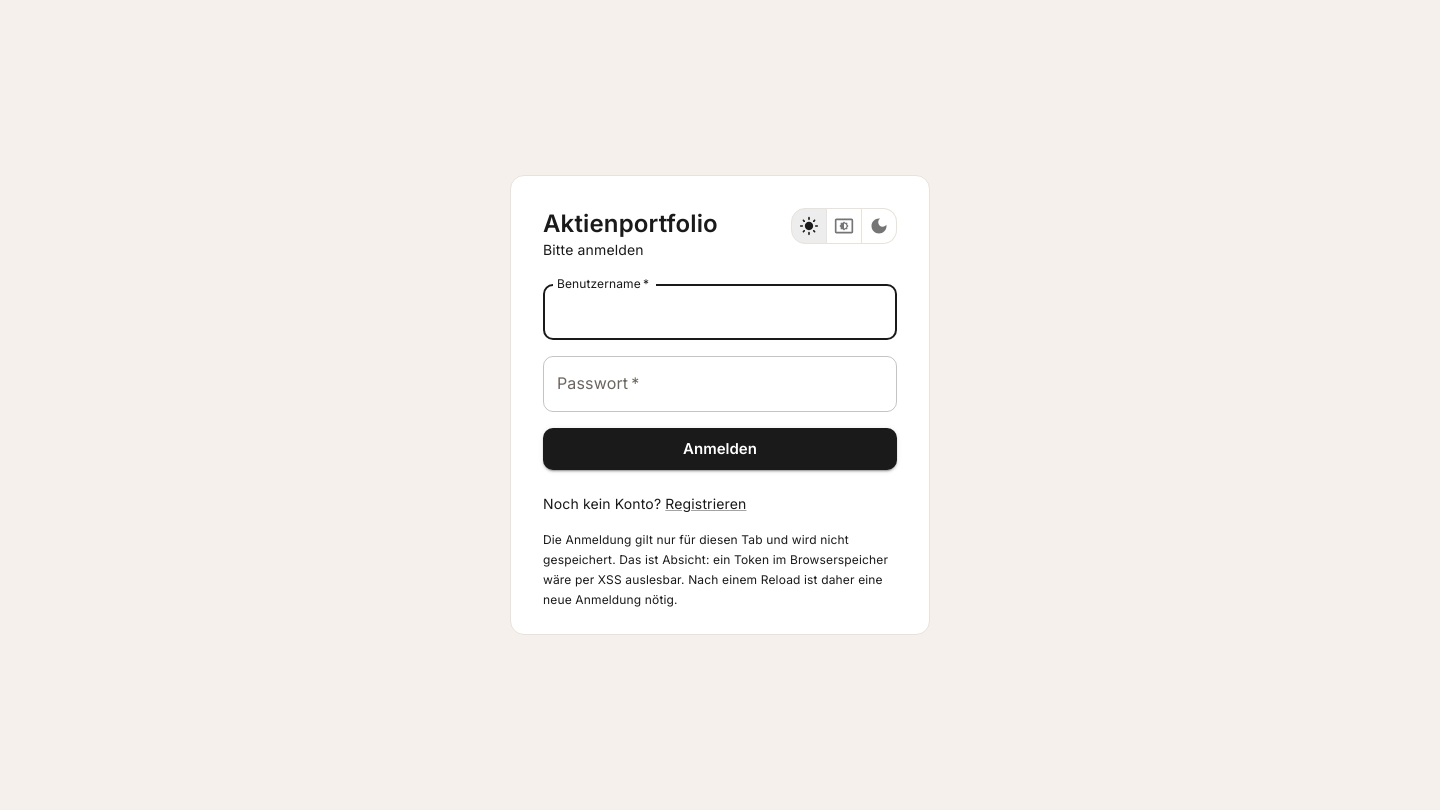
it: Mandanten-Übersicht für Manager › zeigt die Mandate als eigene Sektion mit dem Namen des Eigentümers
Type "demo" into the field labelled "Benutzername *".
click(720, 312); type("demo")  # box [543,284,897,340]
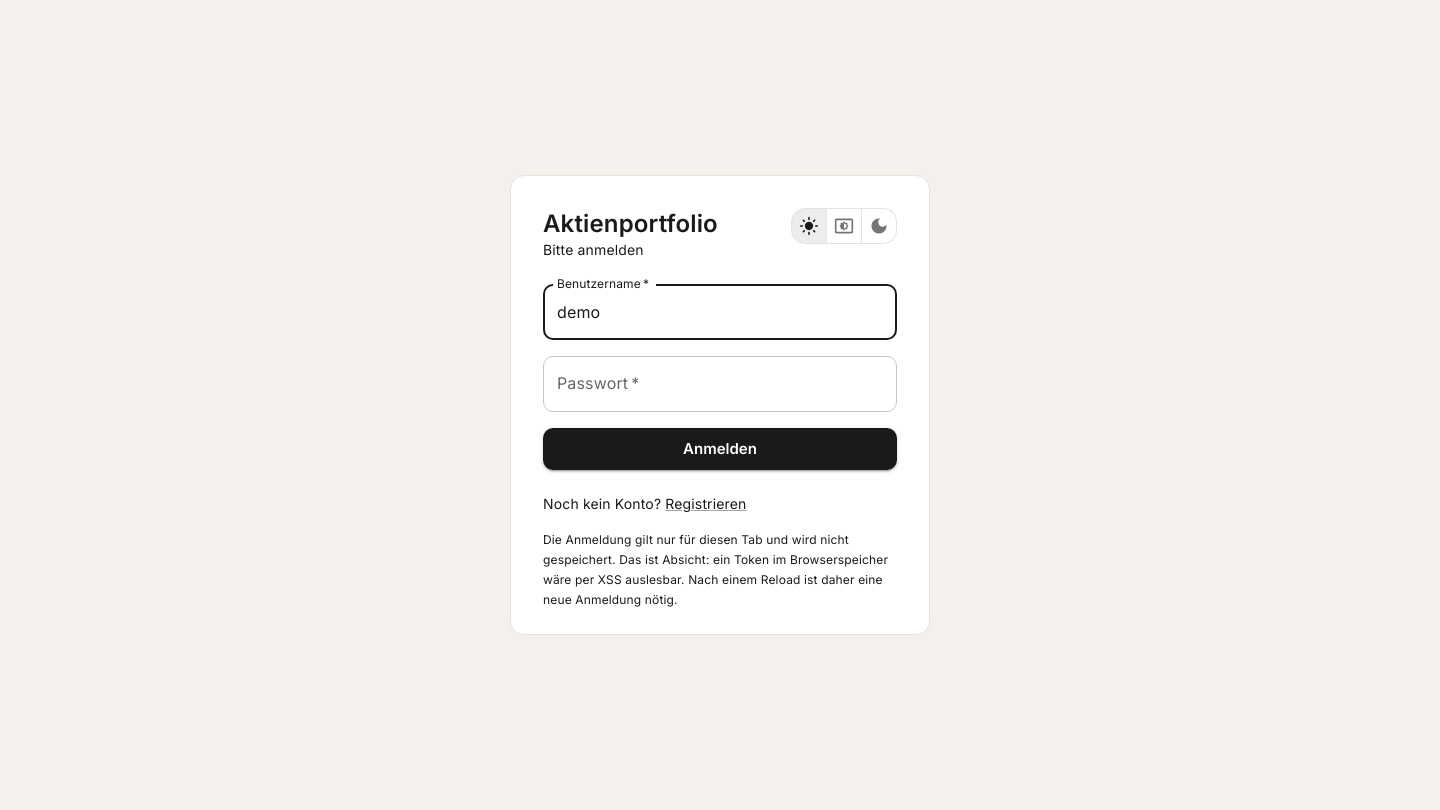
Type "demo1234" into the password field labelled "Passwort *".
click(720, 384); type("demo1234")  # box [543,356,897,412]
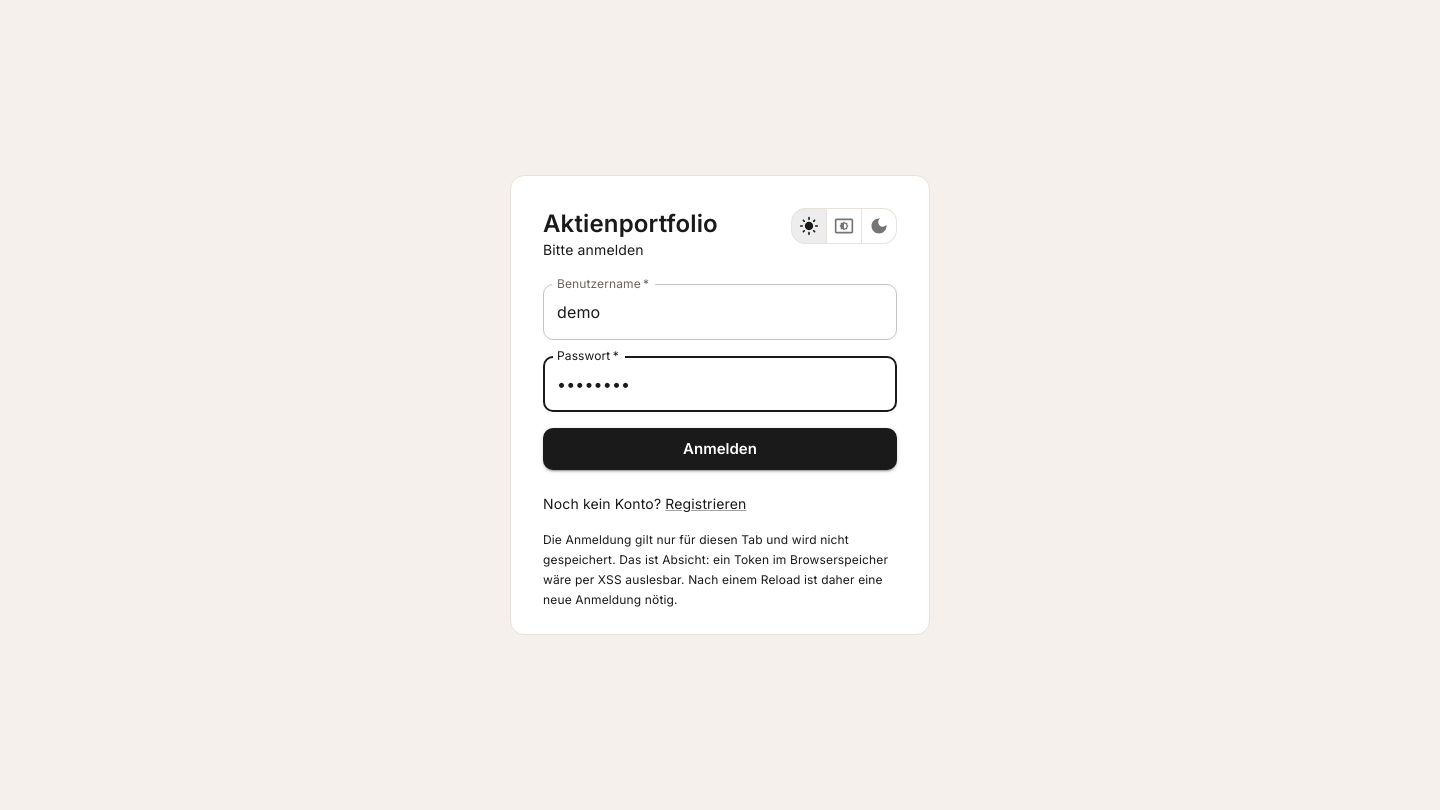
Click the button "Anmelden".
click(720, 449)  # box [543,428,897,470]
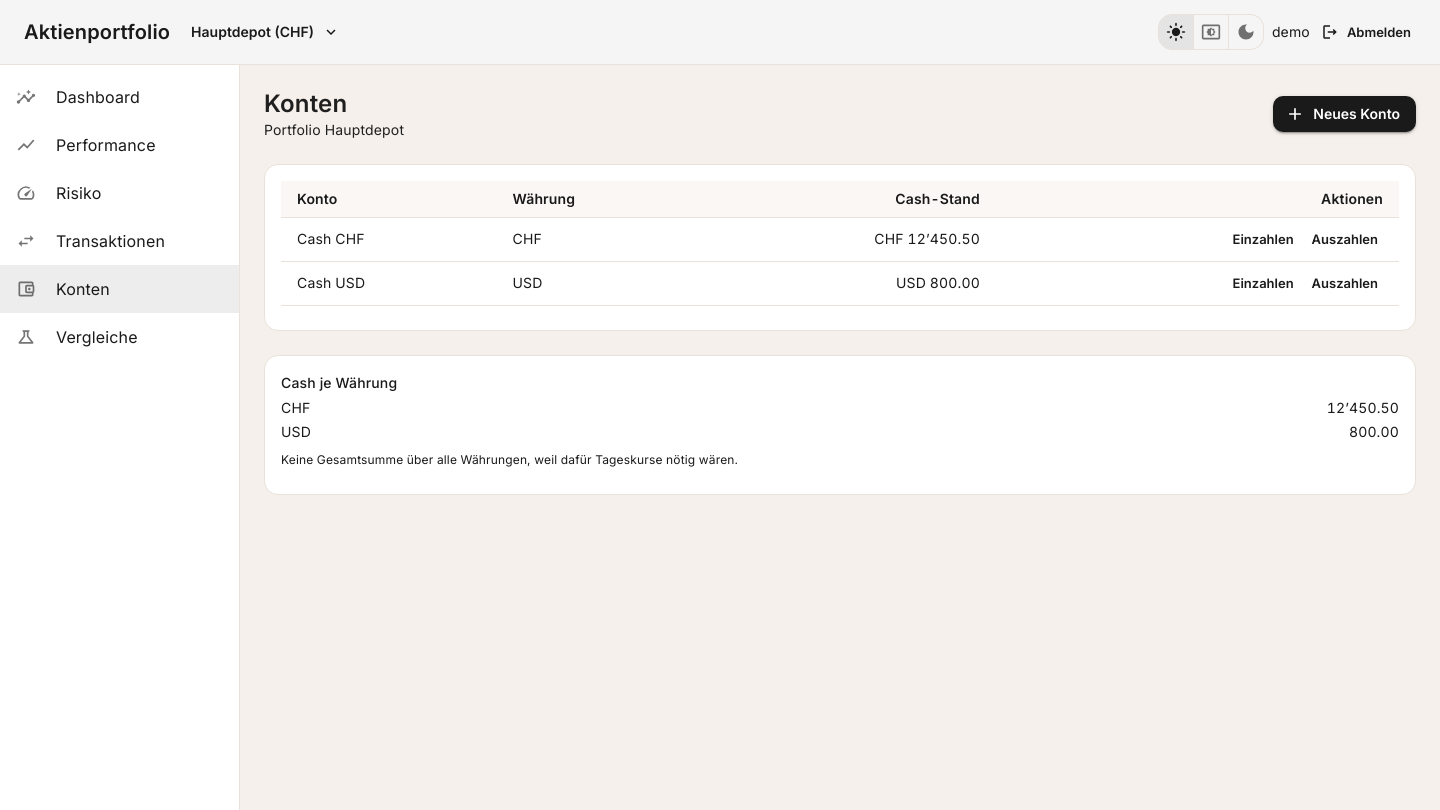
Check: the button "Abmelden" is shown, box [1318,17,1416,47]
Check: the text "Hauptdepot (CHF)" is shown, box [191,22,314,42]
Click the button with aria-label "Portfolio wählen".
click(264, 32)  # box [186,18,343,46]
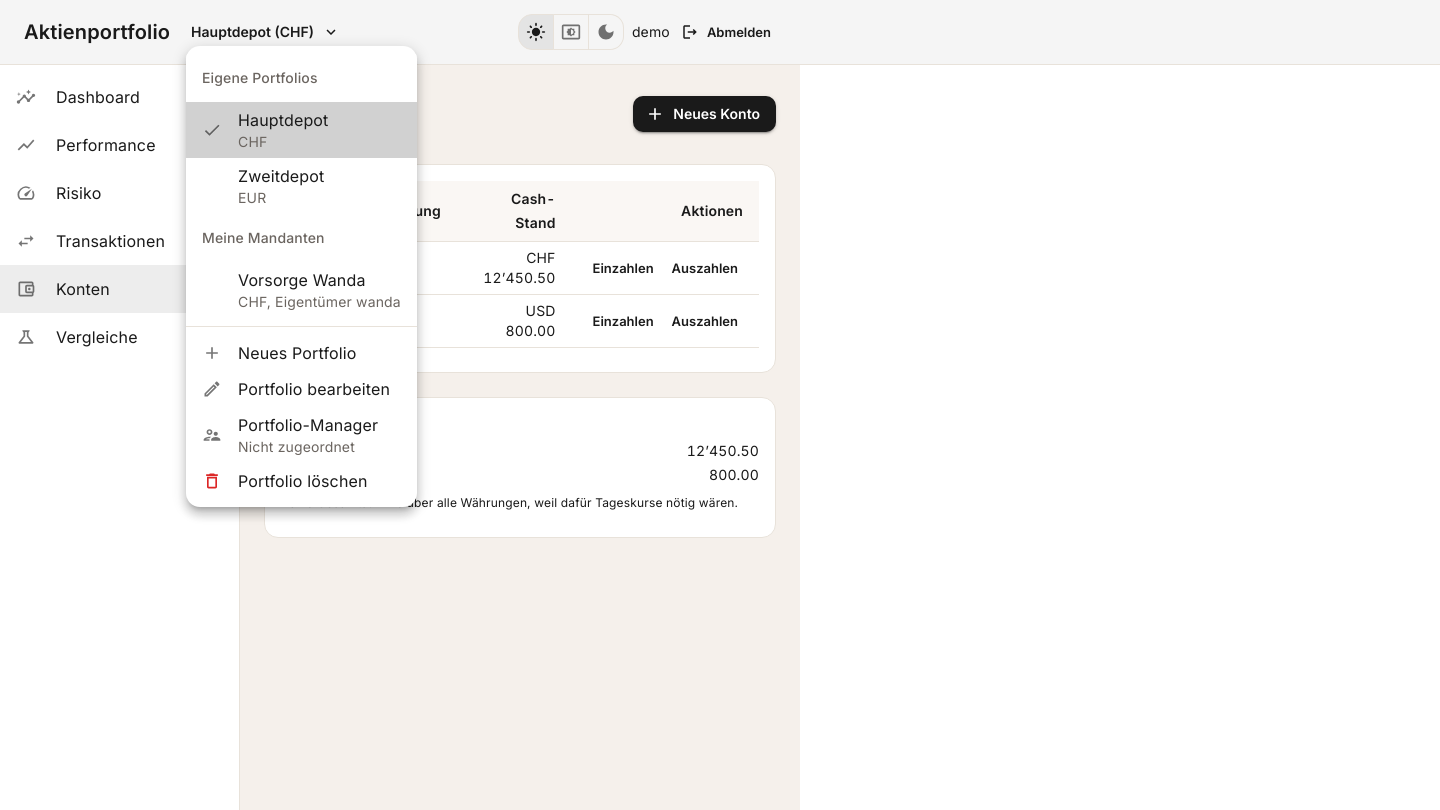
Check: the list item "Eigene Portfolios" is shown, box [186,54,417,102]
Check: the list item "Meine Mandanten" is shown, box [186,214,417,262]
Check: the text "CHF, Eigentümer wanda" is shown, box [238,292,401,312]
